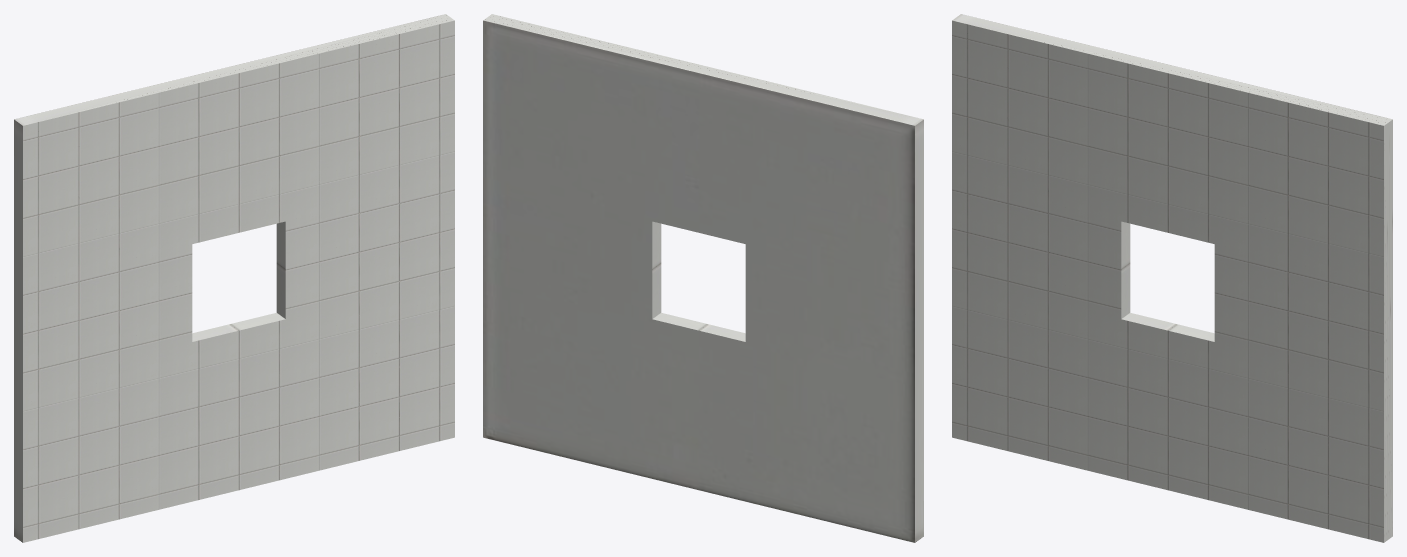
File: Special Moldy wall.fbx
3 views of the same model, side by side, from view 1: azimuth 30°, elevation 25°; view 2: azimuth 150°, elevation 25°; view 3: azimuth 330°, elevation 25° (orthographic).
Visible parts, largest first — view 1: Cube; view 2: Cube; view 3: Cube.
Boxes of the visible parts, x1,y1,x2,y2 form: Cube: (14,14,454,542); Cube: (483,14,923,542); Cube: (952,14,1392,542).
Bounding box in the file's own units: 1052 × 971 × 37.74.
